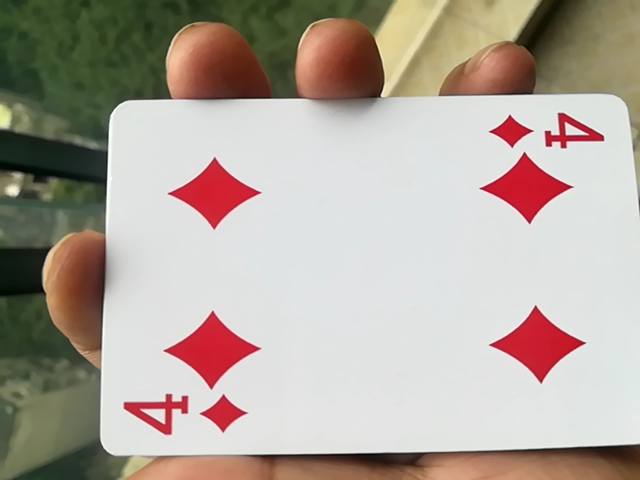fk 4: (81, 97, 636, 470)
